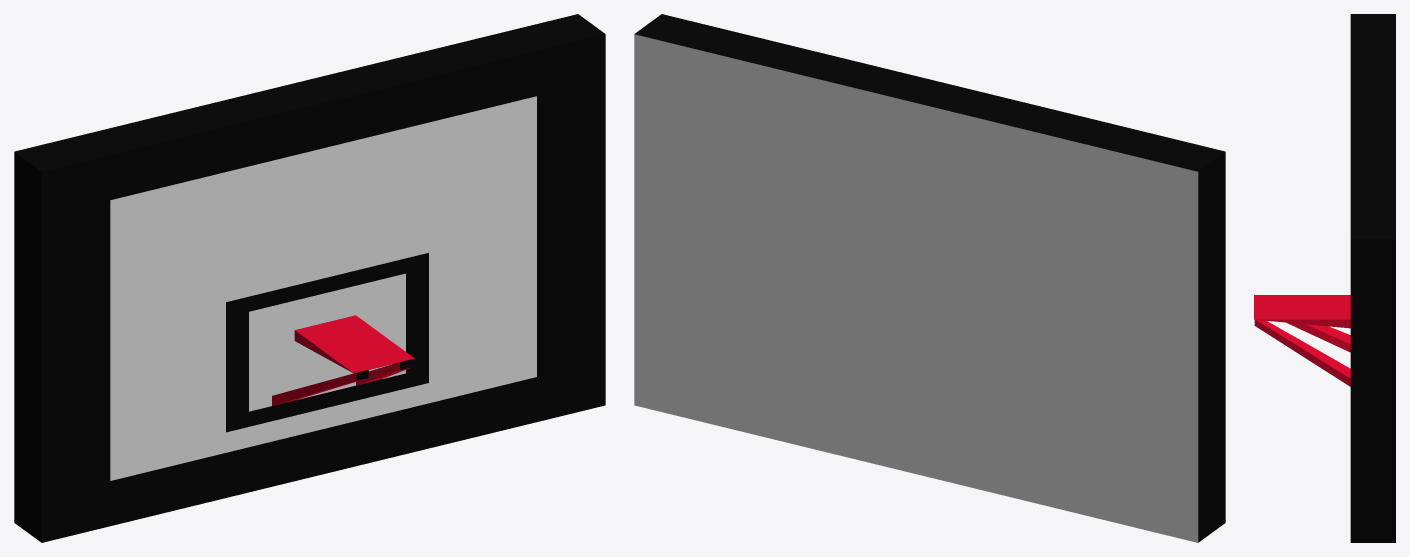
File: Arofbx.fbx
3 views of the same model, side by side, from view 1: azimuth 30°, elevation 25°; view 2: azimuth 150°, elevation 25°; view 3: azimuth 270°, elevation 25° (orthographic). The views are drawn at different scales.
Parts seen in each view (by area): view 1: Cube; view 2: Cube; view 3: Cube.
Boxes of the visible parts, box(x1,y1,x2,y2) form: Cube: box(14, 14, 605, 542); Cube: box(634, 14, 1225, 542); Cube: box(1254, 14, 1395, 542).
Size of the model in its own units: 642 by 403 by 171.
